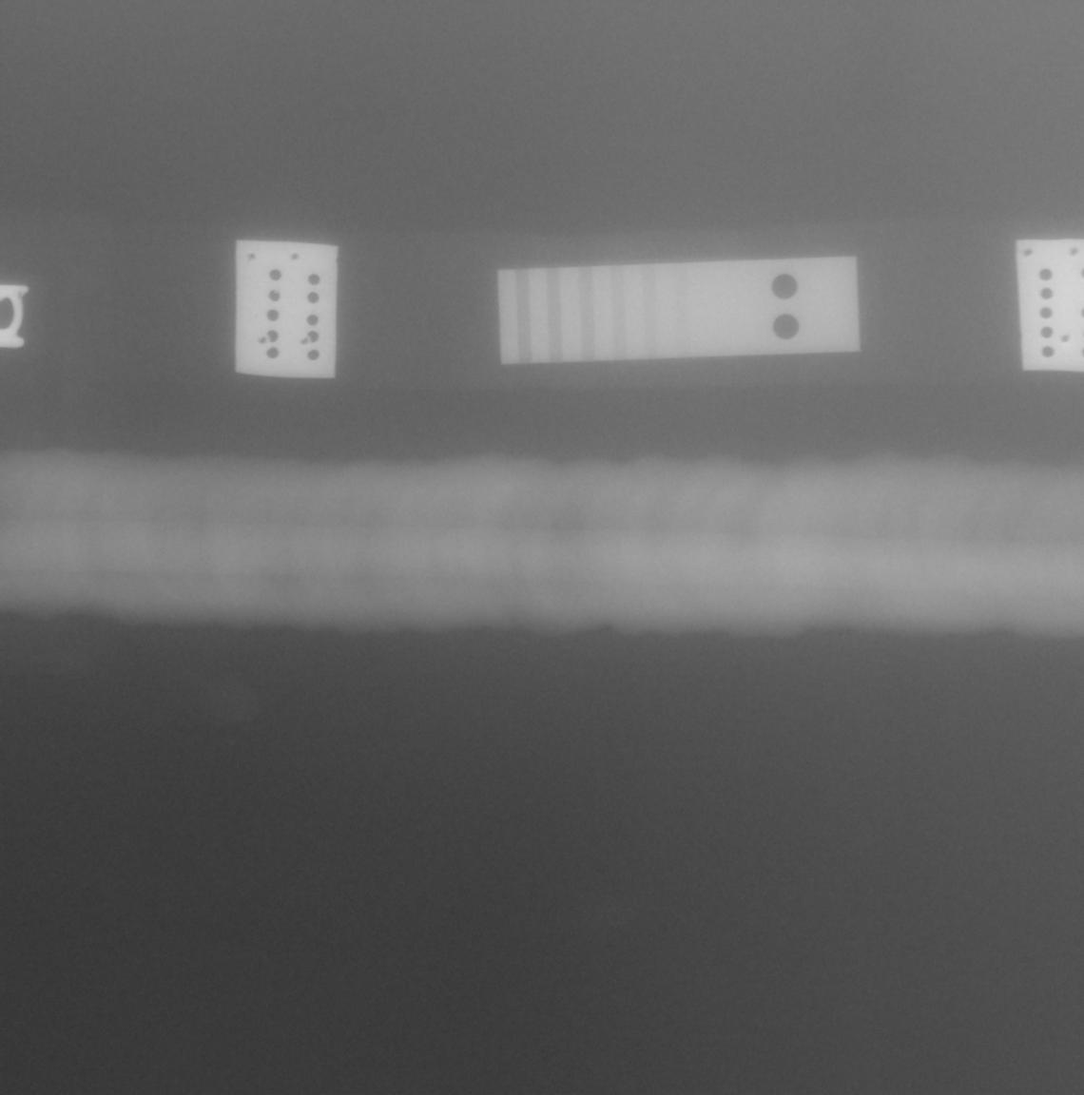Reference Standard 2: (498, 256, 860, 365)
